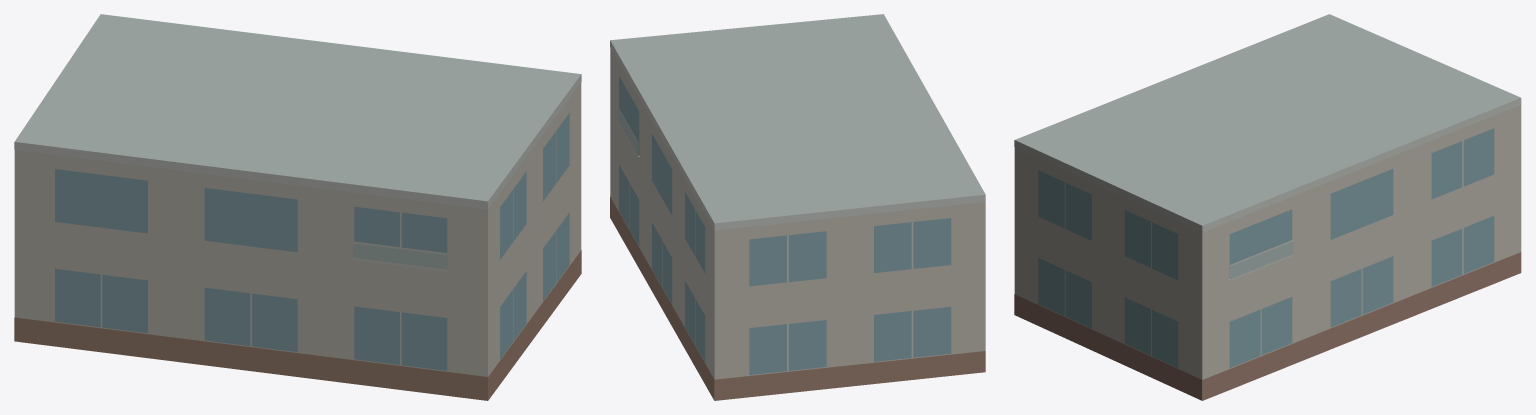
The model's file is survey-upis-32686900.glb.
The picture shows the model from 3 angles, left to right: view 1: azimuth 30°, elevation 25°; view 2: azimuth 150°, elevation 25°; view 3: azimuth 270°, elevation 25°; orthographic projection. The views are drawn at different scales.
Parts seen in each view (by area): view 1: survey-upis-32686900.tmp; view 2: survey-upis-32686900.tmp; view 3: survey-upis-32686900.tmp.
Boxes of the visible parts, box(x1,y1,x2,y2) form: survey-upis-32686900.tmp: box(14, 14, 581, 400); survey-upis-32686900.tmp: box(610, 14, 985, 400); survey-upis-32686900.tmp: box(1014, 14, 1521, 400).
Size of the model in its own units: 15.83 by 6.1 by 16.01.
